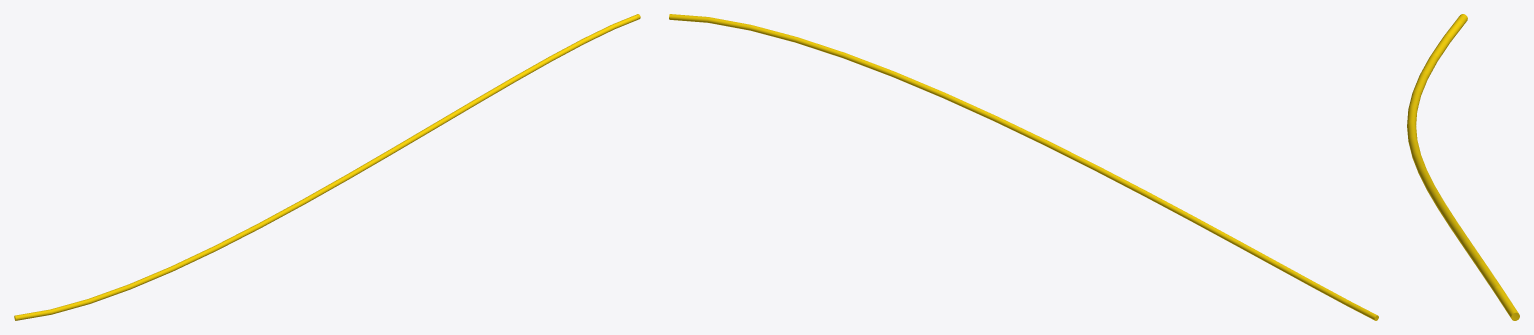
File: Event_420094457_track_54.fbx
The picture shows the model from 3 angles, left to right: view 1: azimuth 30°, elevation 25°; view 2: azimuth 150°, elevation 25°; view 3: azimuth 270°, elevation 25°; orthographic projection. The views are drawn at different scales.
Parts seen in each view (by area): view 1: Model; view 2: Model; view 3: Model.
Part boxes in pixels (x1,y1,x2,y2): Model: (14,14,640,320); Model: (669,14,1378,320); Model: (1407,14,1519,320).
Bounding box in the file's own units: 5.43 × 1.14 × 0.4935.
